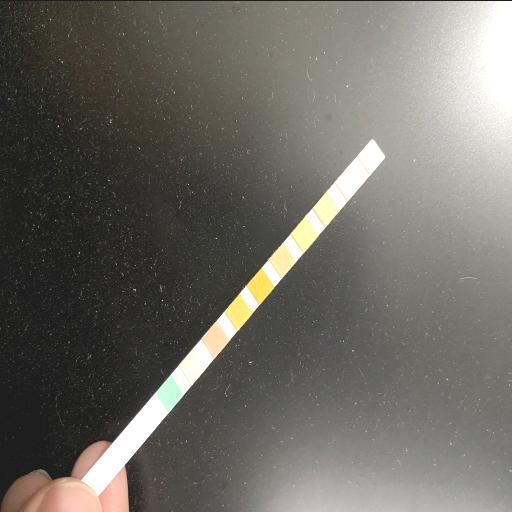Bilirubin: (186, 354, 200, 375)
Blood: (254, 276, 268, 296)
Glucose: (163, 383, 177, 403)
Ketone: (209, 328, 223, 348)
Leukocytes: (366, 146, 378, 166)
Nitrite: (342, 173, 356, 191)
Protein: (300, 224, 312, 244)
SpGravity: (232, 302, 246, 320)
Urobilinogen: (320, 198, 334, 216)
pH: (276, 250, 290, 270)
strip: (81, 138, 385, 494)
